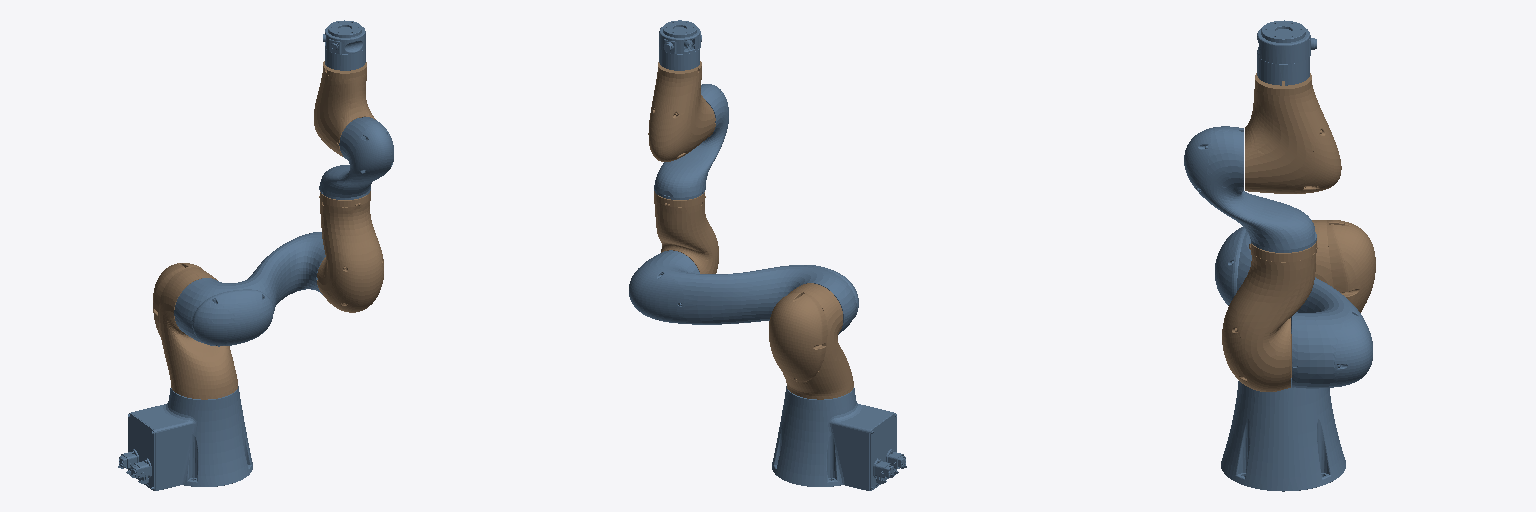
The robot description file, URDF, robot "hsr_co603":
<robot
  name="hsr_co603">

  <link name="world" />
    <joint name="fixed" type="fixed">
        <parent link="world" />
        <child link="base_link" />
        <origin xyz="0 0 1" rpy="0 0 0" />
    </joint>

  <link
    name="base_link">
    <inertial>
      <origin
        xyz="0.22101 0.0037177 0.32336"
        rpy="0 0 0" />
      <mass
        value="39.237" />
      <inertia
        ixx="1.4316"
        ixy="0.021806"
        ixz="-0.71407"
        iyy="3.5505"
        iyz="0.045794"
        izz="2.2157" />
    </inertial>
    <visual>
      <origin
        xyz="0 0 0"
        rpy="0 0 0" />
      <geometry>
        <mesh
          filename="package://hsr_description/meshes/co603/base_link.STL" />
      </geometry>
      <material
        name="">
        <color rgba="0.4 0.5 0.6 1" />
      </material>
    </visual>
    <collision>
      <origin
        xyz="0 0 0"
        rpy="0 0 0" />
      <geometry>
        <mesh
          filename="package://hsr_description/meshes/co603/base_link.STL" />
      </geometry>
    </collision>
  </link>
  <link
    name="link1">
    <inertial>
      <origin
        xyz="0.22101 -0.0037177 -0.0018574"
        rpy="0 0 0" />
      <mass
        value="39.237" />
      <inertia
        ixx="1.4316"
        ixy="-0.021806"
        ixz="0.71407"
        iyy="3.5505"
        iyz="0.045794"
        izz="2.2157" />
    </inertial>
    <visual>
      <origin
        xyz="0 0 0"
        rpy="0 0 0" />
      <geometry>
        <mesh
          filename="package://hsr_description/meshes/co603/link1.STL" />
      </geometry>
      <material
        name="">
        <color rgba="0.6 0.5 0.4 1" />
      </material>
    </visual>
    <collision>
      <origin
        xyz="0 0 0"
        rpy="0 0 0" />
      <geometry>
        <mesh
          filename="package://hsr_description/meshes/co603/link1.STL" />
      </geometry>
    </collision>
  </link>
  <joint name="joint_1" type="revolute">
        <origin xyz="0 0 0.3215" rpy="3.1416 0 0" />
        <parent link="base_link" />
        <child link="link1" />
        <axis xyz="0 0 -1" />
        <limit lower="-3.1415" upper="3.1415" effort="28" velocity="3.2" />
        <safety_controller soft_upper_limit="3.1415" soft_lower_limit="-3.1415" k_position="100" k_velocity="10" />
    </joint>
  <link
    name="link2">
    <inertial>
      <origin
        xyz="-0.0018574 -0.22101 0.0037177"
        rpy="0 0 0" />
      <mass
        value="39.237" />
      <inertia
        ixx="2.2157"
        ixy="-0.71407"
        ixz="-0.045794"
        iyy="1.4316"
        iyz="-0.021806"
        izz="3.5505" />
    </inertial>
    <visual>
      <origin
        xyz="0 0 0"
        rpy="0 0 0" />
      <geometry>
        <mesh
          filename="package://hsr_description/meshes/co603/link2.STL" />
      </geometry>
      <material
        name="">
        <color rgba="0.4 0.5 0.6 1" />
      </material>
    </visual>
    <collision>
      <origin
        xyz="0 0 0"
        rpy="0 0 0" />
      <geometry>
        <mesh
          filename="package://hsr_description/meshes/co603/link2.STL" />
      </geometry>
    </collision>
  </link>
  <joint name="joint_2" type="revolute">
	<origin xyz="0 0 0" rpy="1.5708 -1.5708 0" />
        <parent link="link1" />
        <child link="link2" />
        <axis xyz="0 0 1" />
        <limit lower="-3.75" upper="0.61086" effort="28" velocity="3.2" />
        <safety_controller soft_upper_limit="0.61086" soft_lower_limit="-3.75" k_position="100" k_velocity="10" />
    </joint>
  <link
    name="link3">
    <inertial>
      <origin
        xyz="-0.078988 -0.0018574 0.0037177"
        rpy="0 0 0" />
      <mass
        value="39.237" />
      <inertia
        ixx="1.4316"
        ixy="0.71407"
        ixz="0.021806"
        iyy="2.2157"
        iyz="-0.045794"
        izz="3.5505" />
    </inertial>
    <visual>
      <origin
        xyz="0 0 0"
        rpy="0 0 0" />
      <geometry>
        <mesh
          filename="package://hsr_description/meshes/co603/link3.STL" />
      </geometry>
      <material
        name="">
        <color
          rgba="0.6 0.5 0.4 1" />
      </material>
    </visual>
    <collision>
      <origin
        xyz="0 0 0"
        rpy="0 0 0" />
      <geometry>
        <mesh
          filename="package://hsr_description/meshes/co603/link3.STL" />
      </geometry>
    </collision>
  </link>
  <joint name="joint_3" type="revolute">
        <origin xyz="0 -0.3 0" rpy="9.8032E-18 5.5397E-16 -1.5708" />
        <parent link="link2" />
        <child link="link3" />
        <axis xyz="0 0 1" />
        <limit lower="-0.872222222" upper="4.012222222" effort="28" velocity="3.2" />
        <safety_controller soft_upper_limit="4.012222222" soft_lower_limit="-0.872222222" k_position="100" k_velocity="10" />
    </joint>
  <link
    name="link4">
    <inertial>
      <origin
        xyz="-0.0037177 -0.078988 0.0018574"
        rpy="0 0 0" />
      <mass
        value="39.237" />
      <inertia
        ixx="3.5505"
        ixy="-0.021806"
        ixz="-0.045794"
        iyy="1.4316"
        iyz="-0.71407"
        izz="2.2157" />
    </inertial>
    <visual>
      <origin
        xyz="0 0 0"
        rpy="0 0 0" />
      <geometry>
        <mesh
          filename="package://hsr_description/meshes/co603/link4.STL" />
      </geometry>
      <material
        name="">
        <color
          rgba="0.4 0.5 0.6 1" />
      </material>
    </visual>
    <collision>
      <origin
        xyz="0 0 0"
        rpy="0 0 0" />
      <geometry>
        <mesh
          filename="package://hsr_description/meshes/co603/link4.STL" />
      </geometry>
    </collision>
  </link>
  <joint name="joint_4" type="revolute">
        <origin xyz="0 0 0" rpy="1.5708 1.5708 0" />
        <parent link="link3" />
        <child link="link4" />
        <axis xyz="0 0 1" />
        <limit lower="-3.14" upper="3.14" effort="28" velocity="3.2" />
        <safety_controller soft_upper_limit="3.14" soft_lower_limit="-3.14" k_position="100" k_velocity="10" />
    </joint>
  <link
    name="link5">
    <inertial>
      <origin
        xyz="-0.078988 0.29814 0.0037177"
        rpy="0 0 0" />
      <mass
        value="39.237" />
      <inertia
        ixx="1.4316"
        ixy="0.71407"
        ixz="0.021806"
        iyy="2.2157"
        iyz="-0.045794"
        izz="3.5505" />
    </inertial>
    <visual>
      <origin
        xyz="0 0 0"
        rpy="0 0 0" />
      <geometry>
        <mesh
          filename="package://hsr_description/meshes/co603/link5.STL" />
      </geometry>
      <material
        name="">
        <color
          rgba="0.6 0.5 0.4 1" />
      </material>
    </visual>
    <collision>
      <origin
        xyz="0 0 0"
        rpy="0 0 0" />
      <geometry>
        <mesh
          filename="package://hsr_description/meshes/co603/link5.STL" />
      </geometry>
    </collision>
  </link>
  <joint name="joint_5" type="revolute">
        <origin xyz="0 0 0.3" rpy="-1.5708 3.9935E-15 1.5708" />
        <parent link="link4" />
        <child link="link5" />
        <axis xyz="0 0 1" />
        <limit lower="-2.26" upper="2.26" effort="28" velocity="3.2" />
        <safety_controller soft_upper_limit="2.260201381332" soft_lower_limit="-2.260201381332" k_position="100" k_velocity="10" />
    </joint>
  <link
    name="link6">
    <inertial>
      <origin
        xyz="-0.078988 0.0037177 -0.50314"
        rpy="0 0 0" />
      <mass
        value="39.237" />
      <inertia
        ixx="1.4316"
        ixy="0.021806"
        ixz="-0.71407"
        iyy="3.5505"
        iyz="0.045794"
        izz="2.2157" />
    </inertial>
    <visual>
      <origin
        xyz="0 0 0"
        rpy="0 0 0" />
      <geometry>
        <mesh
          filename="package://hsr_description/meshes/co603/link6.STL" />
      </geometry>
      <material
        name="">
        <color
          rgba="0.4 0.5 0.6 1" />
      </material>
    </visual>
    <collision>
      <origin
        xyz="0 0 0"
        rpy="0 0 0" />
      <geometry>
        <mesh
          filename="package://hsr_description/meshes/co603/link6.STL" />
      </geometry>
    </collision>
  </link>
  <joint name="joint_6" type="revolute">
        <origin xyz="0 -0.205 0" rpy="-1.5708 2.7756E-17 -3.1416" />
        <parent link="link5" />
        <child link="link6" />
        <axis xyz="0 0 1" />
        <limit lower="-3.1415" upper="3.1415" effort="28" velocity="3.2" />
        <safety_controller soft_upper_limit="5.1" soft_lower_limit="-5.1" k_position="100" k_velocity="10" />
    </joint>

<gazebo>
        <plugin name="control" filename="libgazebo_ros_control.so" />
        <plugin name="joint_state_publisher" filename="libgazebo_ros_joint_state_publisher.so">
            <jointName>joint_1, joint_2, joint_3, joint_4, joint_5, joint_6</jointName>
        </plugin>
    </gazebo>

    <transmission name="tran1">
        <type>transmission_interface/SimpleTransmission</type>
        <joint name="joint_1">
            <hardwareInterface>hardware_interface/PositionJointInterface</hardwareInterface>
        </joint>
        <actuator name="motor1">
            <hardwareInterface>hardware_interface/PositionJointInterface</hardwareInterface>
            <mechanicalReduction>1</mechanicalReduction>
        </actuator>
    </transmission>

    <transmission name="tran2">
        <type>transmission_interface/SimpleTransmission</type>
        <joint name="joint_2">
            <hardwareInterface>hardware_interface/PositionJointInterface</hardwareInterface>
        </joint>
        <actuator name="motor2">
            <hardwareInterface>hardware_interface/PositionJointInterface</hardwareInterface>
            <mechanicalReduction>1</mechanicalReduction>
        </actuator>
    </transmission>

    <transmission name="tran3">
        <type>transmission_interface/SimpleTransmission</type>
        <joint name="joint_3">
            <hardwareInterface>hardware_interface/PositionJointInterface</hardwareInterface>
        </joint>
        <actuator name="motor3">
            <hardwareInterface>hardware_interface/PositionJointInterface</hardwareInterface>
            <mechanicalReduction>1</mechanicalReduction>
        </actuator>
    </transmission>

    <transmission name="tran4">
        <type>transmission_interface/SimpleTransmission</type>
        <joint name="joint_4">
            <hardwareInterface>hardware_interface/PositionJointInterface</hardwareInterface>
        </joint>
        <actuator name="motor4">
            <hardwareInterface>hardware_interface/PositionJointInterface</hardwareInterface>
            <mechanicalReduction>1</mechanicalReduction>
        </actuator>
    </transmission>

    <transmission name="tran5">
        <type>transmission_interface/SimpleTransmission</type>
        <joint name="joint_5">
            <hardwareInterface>hardware_interface/PositionJointInterface</hardwareInterface>
        </joint>
        <actuator name="motor5">
            <hardwareInterface>hardware_interface/PositionJointInterface</hardwareInterface>
            <mechanicalReduction>1</mechanicalReduction>
        </actuator>
    </transmission>

    <transmission name="tran6">
        <type>transmission_interface/SimpleTransmission</type>
        <joint name="joint_6">
            <hardwareInterface>hardware_interface/PositionJointInterface</hardwareInterface>
        </joint>
        <actuator name="motor6">
            <hardwareInterface>hardware_interface/PositionJointInterface</hardwareInterface>
            <mechanicalReduction>1</mechanicalReduction>
        </actuator>
    </transmission>

</robot>

--- Facts derived from the render (not from the file) ---
Views: 3 orthographic renders of the robot side by side, from view 1: azimuth 30°, elevation 25°; view 2: azimuth 150°, elevation 25°; view 3: azimuth 270°, elevation 25°.
Model hsr_co603 with 8 links and 7 joints (6 revolute, 1 fixed), rooted at world, posed every joint at zero.
Visible links, largest first — view 1: base_link, link2, link3, link1, link4, link5, link6; view 2: link2, base_link, link1, link5, link3, link4, link6; view 3: base_link, link3, link5, link2, link4, link1, link6.
Link boxes in pixels (x1,y1,x2,y2): base_link: (118, 386, 252, 490); link2: (174, 232, 325, 346); link3: (317, 191, 383, 312); link1: (153, 263, 237, 399); link4: (319, 117, 393, 199); link5: (314, 61, 375, 156); link6: (323, 20, 365, 70); link2: (629, 250, 858, 334); base_link: (772, 386, 906, 490); link1: (769, 283, 853, 399); link5: (648, 61, 715, 161); link3: (654, 191, 718, 273); link4: (654, 84, 728, 199); link6: (659, 20, 701, 70); base_link: (1221, 378, 1345, 491); link3: (1222, 241, 1317, 391); link5: (1245, 73, 1341, 193); link2: (1215, 227, 1372, 388); link4: (1184, 126, 1316, 252); link1: (1291, 220, 1375, 377); link6: (1257, 20, 1316, 85).
Size in the robot's own frame: 0.5245 by 0.2743 by 0.8265 metres.
Meshes: 7 distinct files referenced, 7 mesh visuals loaded (7 binary STL).